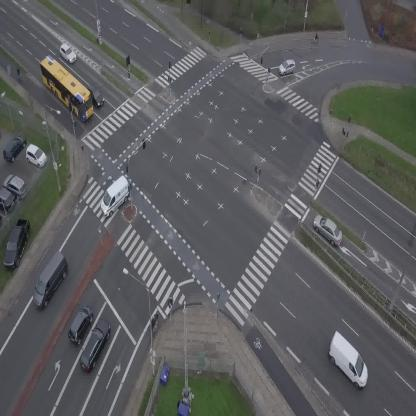bicycle: (146, 312, 159, 330), (14, 67, 24, 82), (311, 32, 320, 43)
bus: (32, 52, 102, 123)
car: (75, 316, 116, 375), (63, 302, 98, 347), (308, 210, 348, 249), (85, 83, 106, 109), (56, 42, 79, 65), (277, 58, 298, 77)
lorry: (317, 330, 379, 392), (24, 250, 76, 312), (92, 174, 138, 219)
